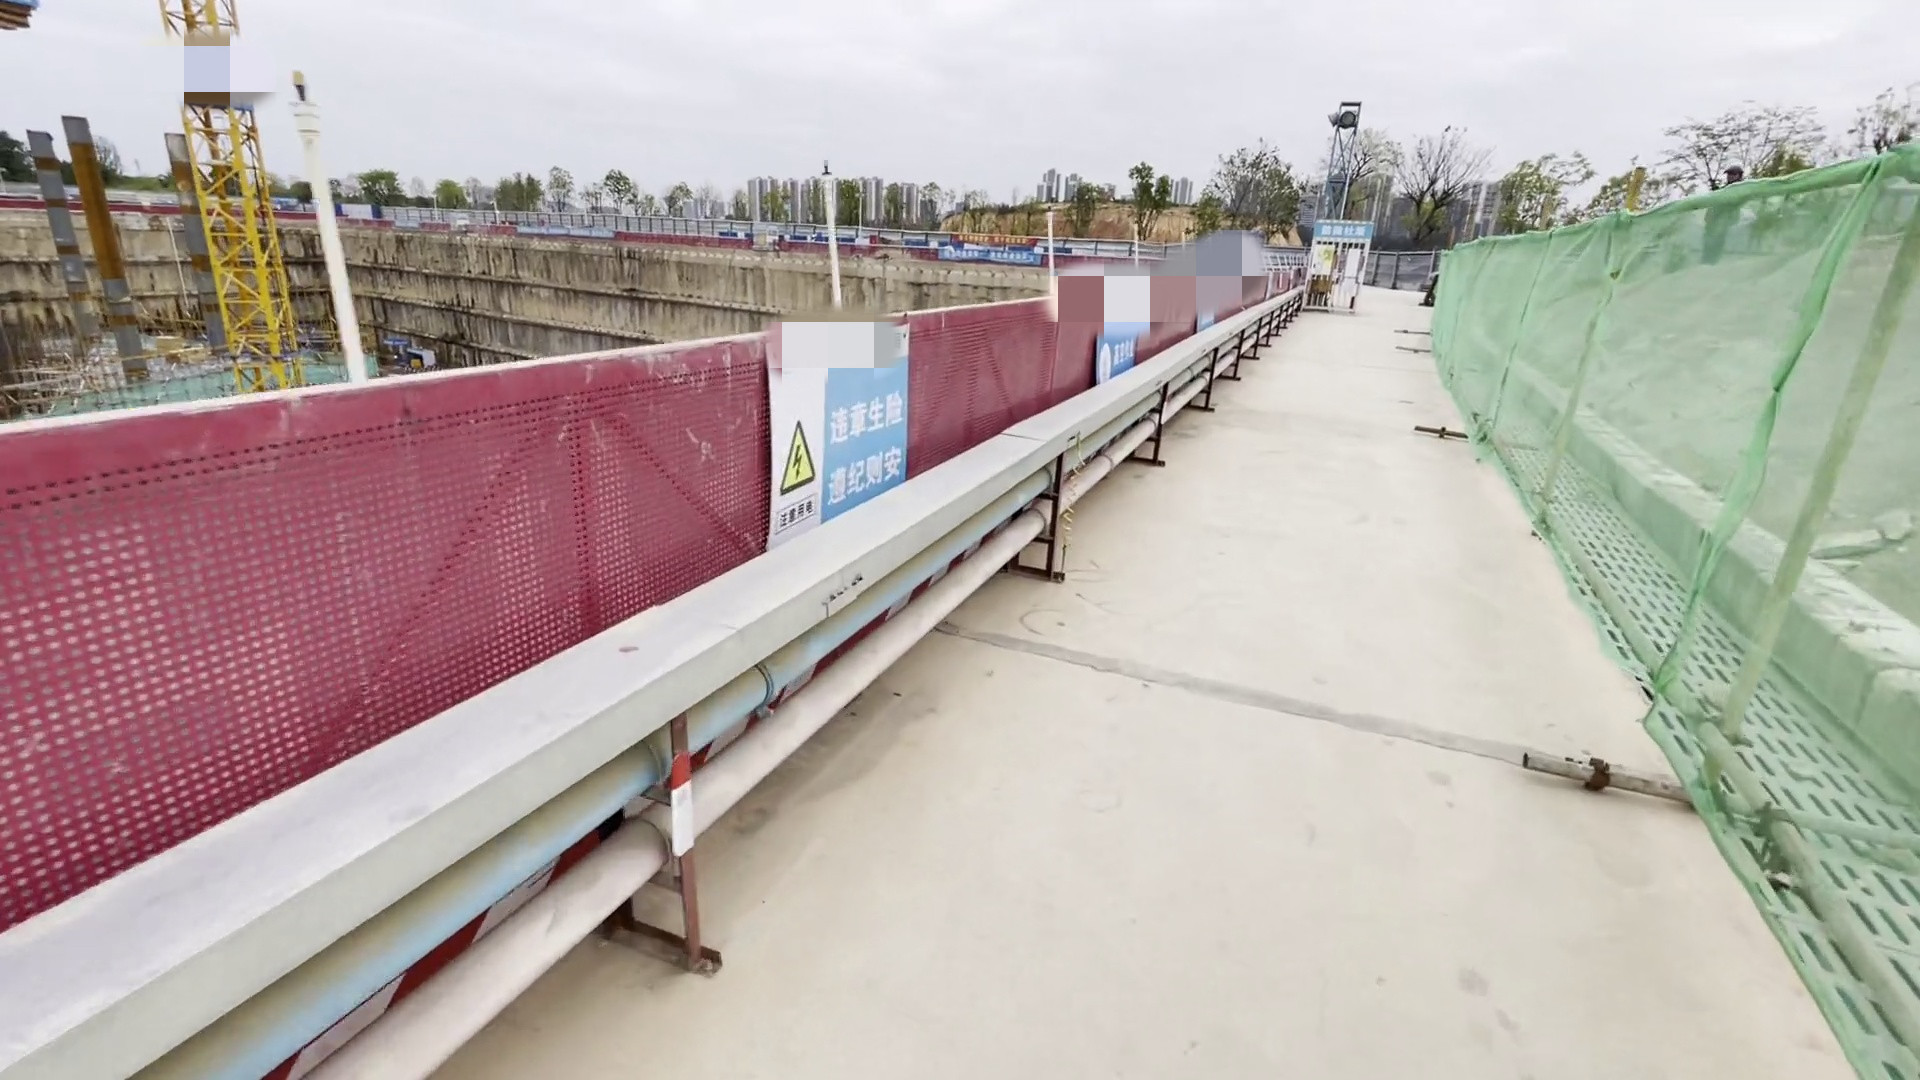fence: (1, 261, 1280, 927)
slogan: (816, 398, 913, 498), (1317, 211, 1367, 243), (1101, 340, 1142, 375)
